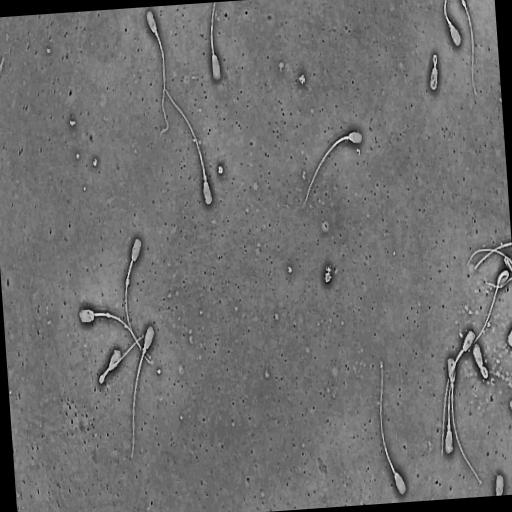coiled-tail: (431, 67, 438, 90), (480, 366, 488, 379), (433, 55, 437, 67)
dirt-particles: (322, 262, 334, 286), (217, 164, 224, 176)
distal-droplet: (126, 278, 129, 286), (106, 313, 110, 318)
folded-tail: (470, 272, 508, 350), (99, 337, 143, 384), (468, 249, 512, 265)
loose-head: (494, 473, 505, 495), (506, 326, 512, 351)
loose-tail: (473, 240, 512, 273)
normal: (164, 81, 215, 207), (300, 127, 365, 211), (446, 356, 483, 487), (77, 306, 154, 366), (441, 329, 476, 456), (379, 352, 408, 499), (465, 268, 510, 356), (444, 327, 474, 457), (144, 8, 171, 140), (130, 323, 156, 460), (124, 235, 151, 360), (97, 333, 146, 387), (466, 247, 512, 275), (208, 2, 222, 84), (442, 0, 463, 48), (471, 340, 490, 380), (428, 52, 440, 94)
proximal-droplet: (142, 346, 147, 356), (203, 174, 207, 182), (447, 424, 451, 431), (154, 30, 158, 36), (143, 347, 146, 354), (451, 382, 454, 388)
